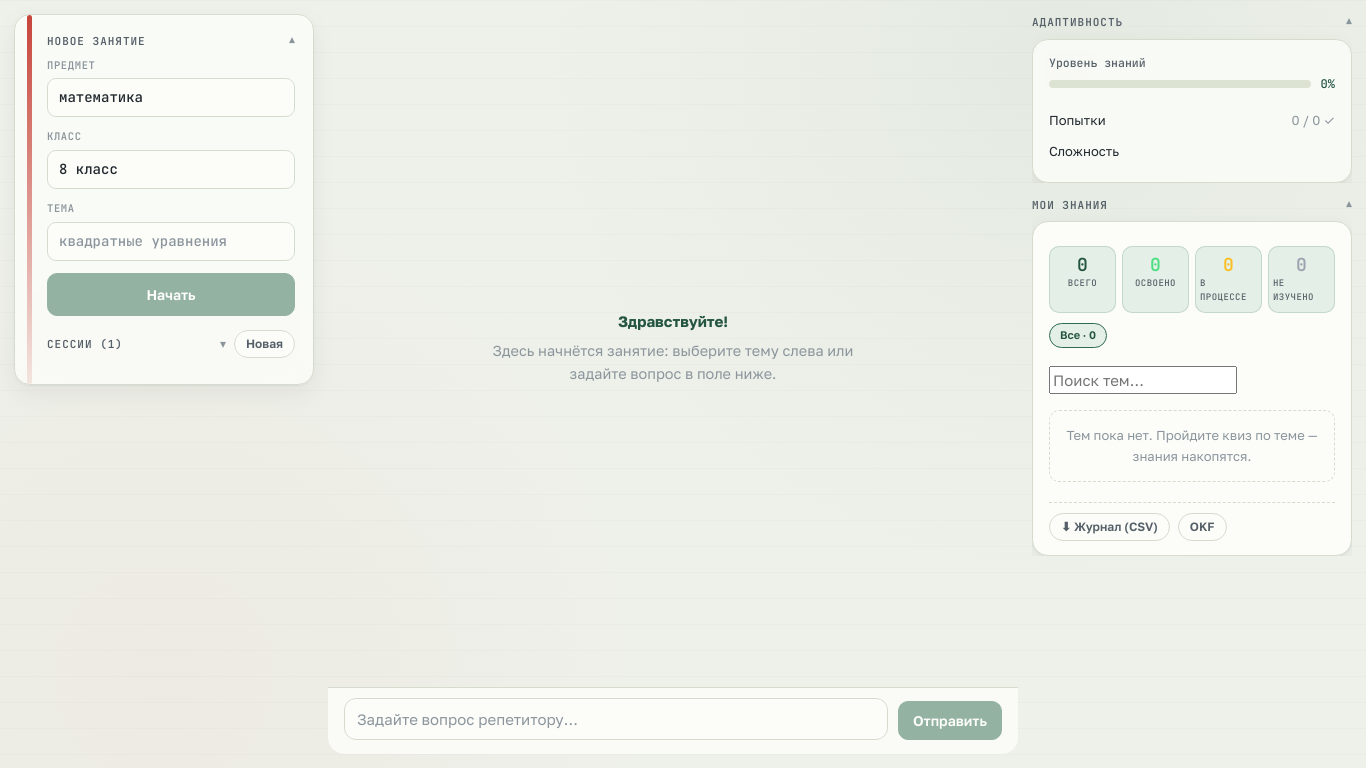
Test: <App/> › lists server sessions and loads messages when one is picked
Click the button "Сессии (1) ▾": point(136, 344) [47, 336, 226, 352]
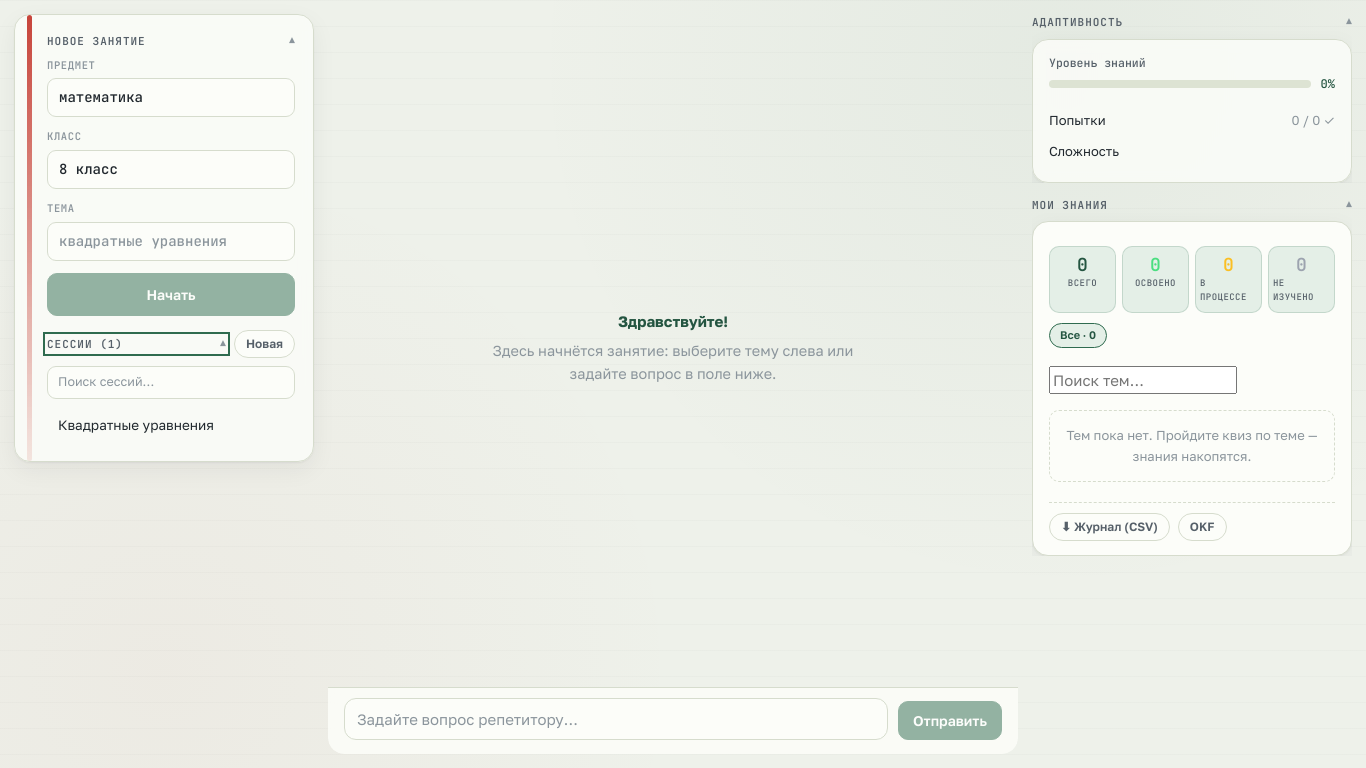
Check: the button "Квадратные уравнения" is shown
Click the button "Квадратные уравнения": point(171, 425) [47, 406, 295, 443]
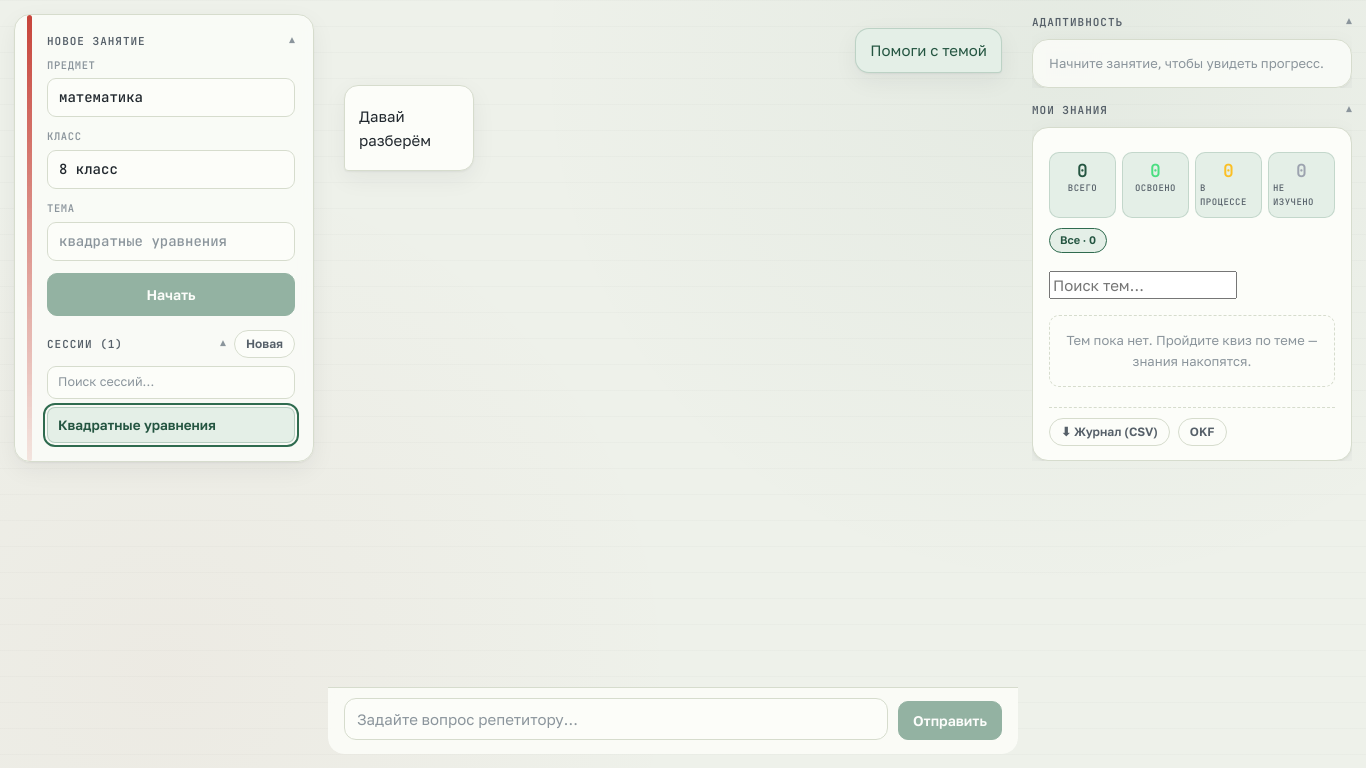
Check: the text "Помоги с темой" is shown, box [855, 28, 1002, 73]
